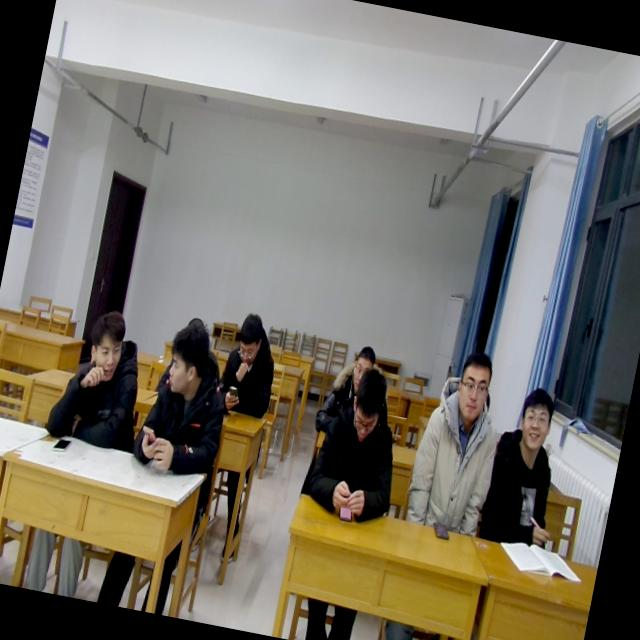bow: (311, 337, 388, 447)
down: (344, 364, 393, 447), (230, 306, 268, 370), (346, 340, 380, 395)
lookup: (448, 343, 500, 429), (512, 380, 561, 452)
sit: (400, 341, 515, 540), (124, 309, 243, 483), (300, 357, 416, 530), (478, 377, 579, 551), (44, 299, 154, 456), (214, 308, 287, 420)
